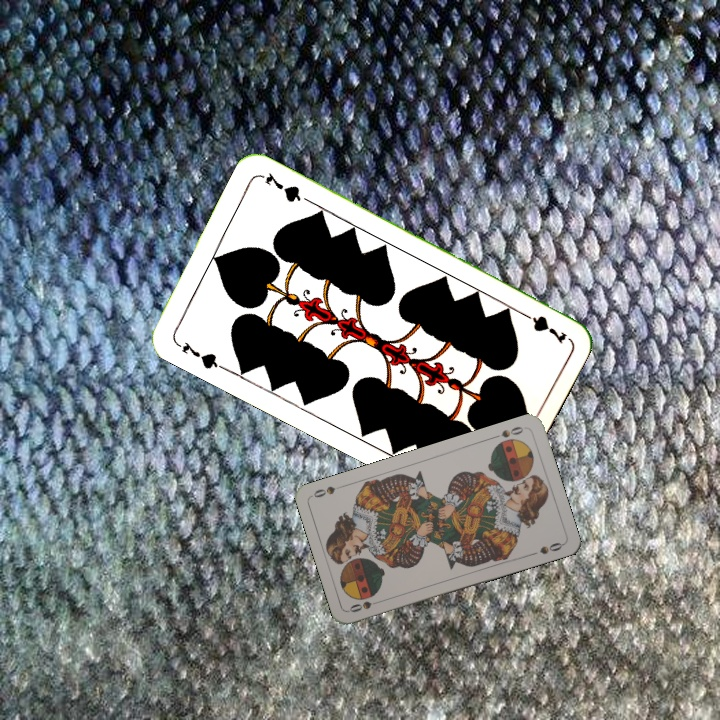G7: (514, 307, 569, 347), (171, 337, 226, 372)
SO: (345, 595, 385, 615), (488, 422, 526, 441)
